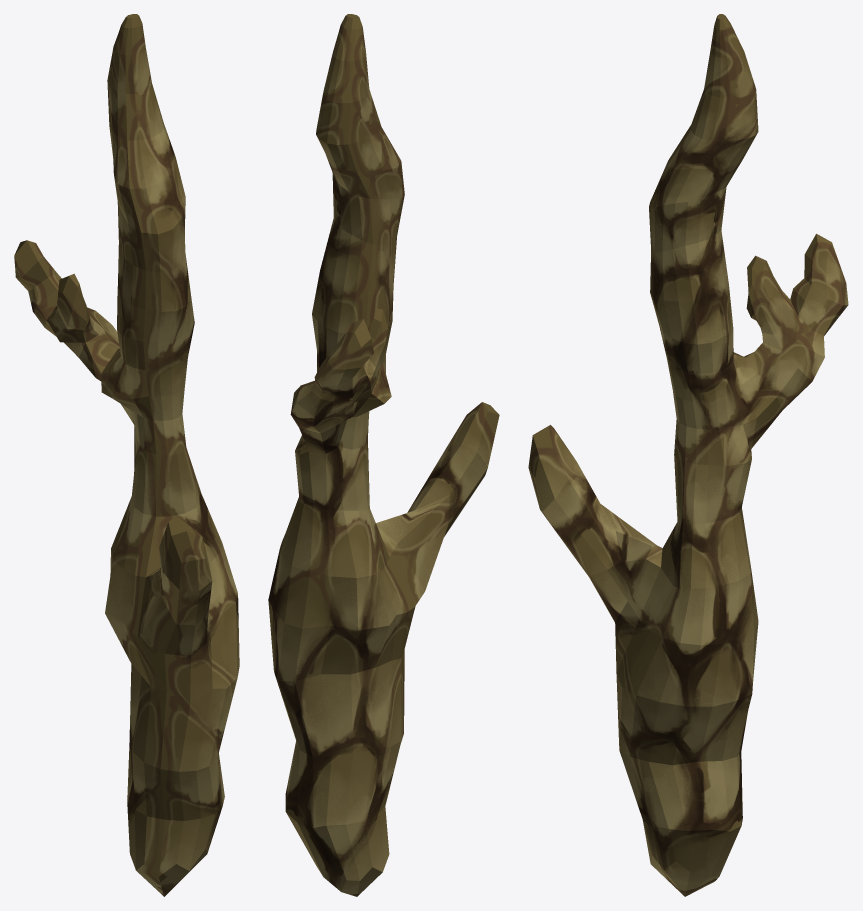
Rendered from branch4.fbx.
3 views of the same model, side by side, from view 1: azimuth 30°, elevation 25°; view 2: azimuth 150°, elevation 25°; view 3: azimuth 270°, elevation 25° (orthographic). The views are drawn at different scales.
Visible parts, largest first — view 1: branch4; view 2: branch4; view 3: branch4.
Part boxes in pixels (box(x1,y1,x2,y2)): branch4: box(14, 14, 239, 896); branch4: box(268, 14, 499, 896); branch4: box(528, 14, 848, 896).
Bounding box in the file's own units: 172 × 917 × 304.
